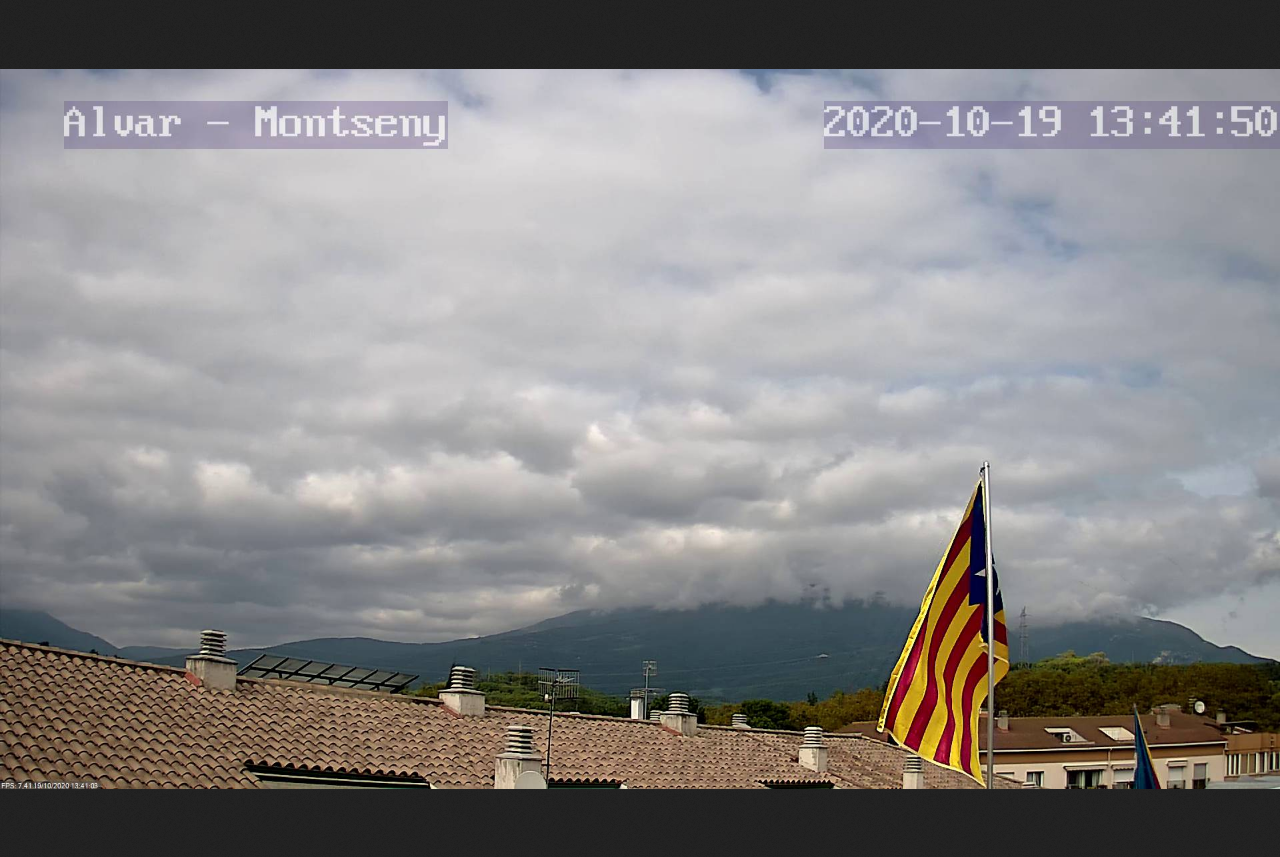no: (868, 465, 1015, 787)
